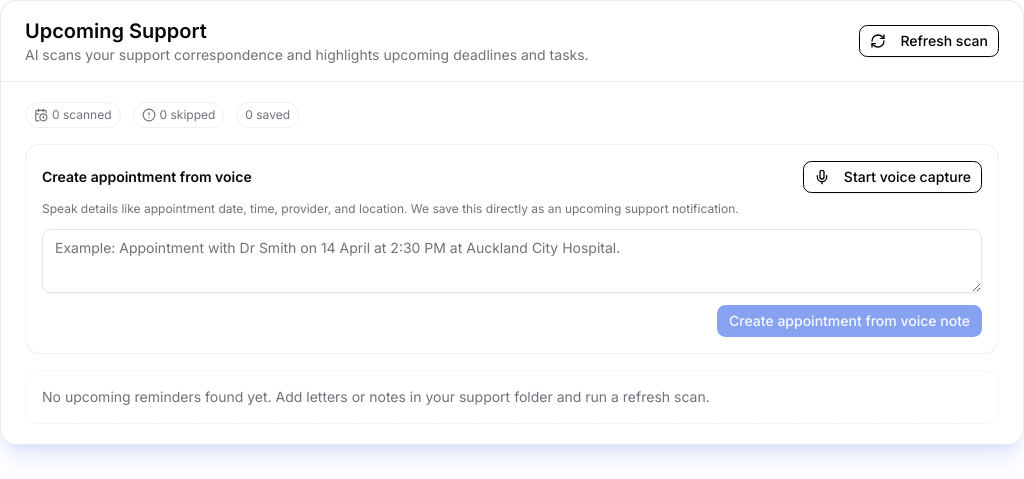
Test: UpcomingSupportCard › does not duplicate transcript text across interim and final speech events
Click the button "Start voice capture".
click(892, 177)  # box [803,161,982,193]
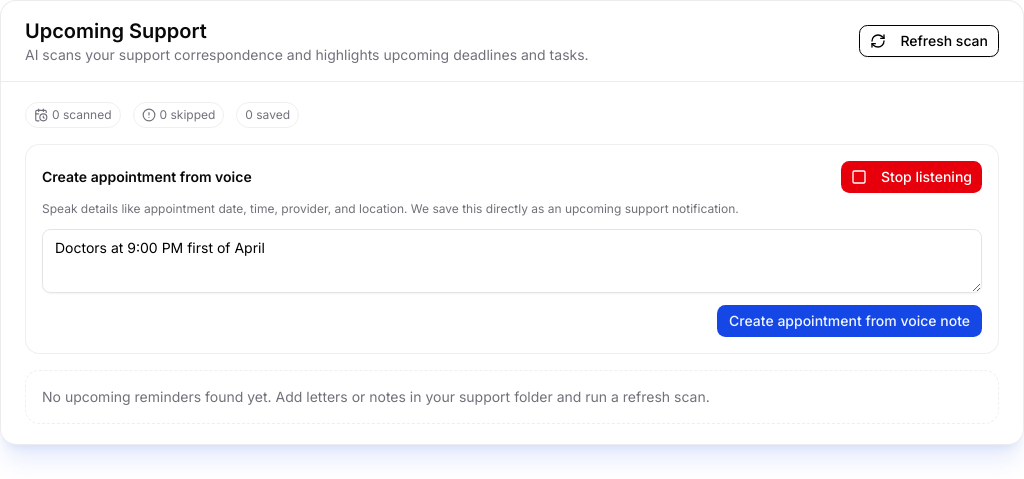
Now the text box with placeholder "Example: Appointment with Dr Smith on 14 April at 2:30 PM at Auckland City Hospital." holds "Doctors at 9:00 PM first of April", box [42,229,982,293]
